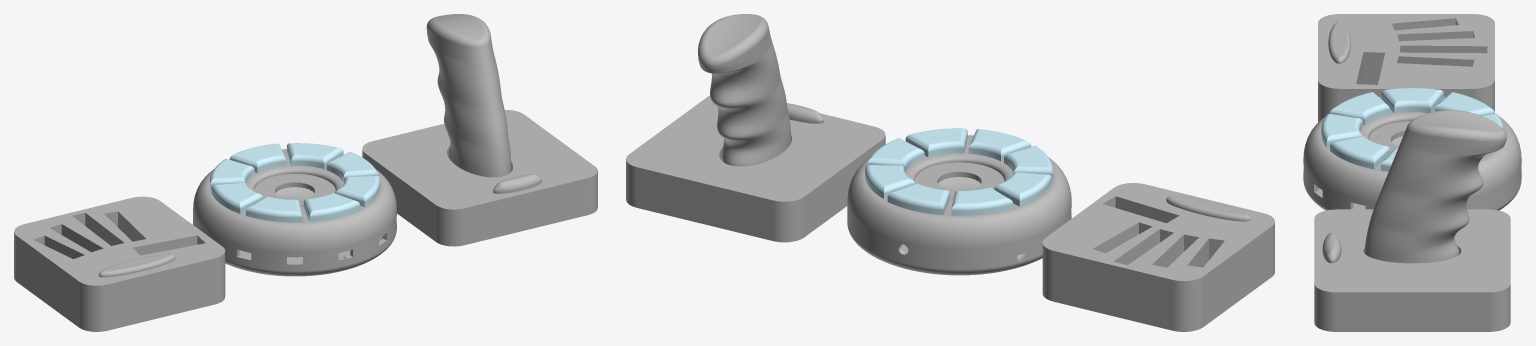
The model's file is hardware.glb.
The picture shows the model from 3 angles, left to right: view 1: azimuth 30°, elevation 25°; view 2: azimuth 150°, elevation 25°; view 3: azimuth 270°, elevation 25°; orthographic projection. The views are drawn at different scales.
Parts seen in each view (by area): view 1: finger slider module-1, joystick base draft-1, Hub Upper Shell-1, JoyStick-1, Hub Lower Shell-1, hub button-7, hub button-8, hub button-4, hub button-1, hub button-3, hub button-6, hub button-5 (+1 smaller); view 2: finger slider module-1, joystick base draft-1, Hub Upper Shell-1, JoyStick-1, Hub Lower Shell-1, hub button-3, hub button-2, hub button-6, hub button-1, hub button-7, hub button-4, hub button-5 (+1 smaller); view 3: joystick base draft-1, finger slider module-1, JoyStick-1, Hub Upper Shell-1, hub button-1, hub button-6, hub button-8, hub button-7, Hub Lower Shell-1, hub button-2, hub button-5.
Boxes of the visible parts, x1,y1,x2,y2 form: finger slider module-1: (14, 196, 225, 331); joystick base draft-1: (362, 110, 597, 246); Hub Upper Shell-1: (193, 149, 396, 264); JoyStick-1: (426, 14, 511, 177); Hub Lower Shell-1: (193, 187, 396, 276); hub button-7: (303, 192, 360, 221); hub button-8: (246, 196, 302, 222); hub button-4: (287, 143, 343, 168); hub button-1: (211, 182, 263, 213); hub button-3: (229, 143, 286, 172); hub button-6: (335, 175, 379, 206); hub button-5: (326, 152, 378, 182); finger slider module-1: (1042, 183, 1274, 331); joystick base draft-1: (626, 95, 885, 242); Hub Upper Shell-1: (847, 135, 1071, 262); JoyStick-1: (698, 14, 791, 166); Hub Lower Shell-1: (847, 177, 1071, 275); hub button-3: (887, 183, 949, 214); hub button-2: (951, 187, 1013, 215); hub button-6: (905, 128, 967, 157); hub button-1: (994, 172, 1051, 206); hub button-7: (968, 129, 1031, 161); hub button-4: (865, 165, 915, 198); hub button-5: (867, 138, 924, 172); joystick base draft-1: (1314, 209, 1510, 331); finger slider module-1: (1318, 14, 1494, 122); JoyStick-1: (1364, 110, 1506, 263); Hub Upper Shell-1: (1303, 96, 1521, 209); hub button-1: (1381, 88, 1443, 113); hub button-6: (1330, 136, 1390, 169); hub button-8: (1330, 92, 1390, 124); hub button-7: (1321, 113, 1362, 147); Hub Lower Shell-1: (1303, 136, 1521, 210); hub button-2: (1434, 92, 1494, 115); hub button-5: (1381, 147, 1398, 171).
Size of the model in its own units: 0.5825 by 0.1731 by 0.2.
